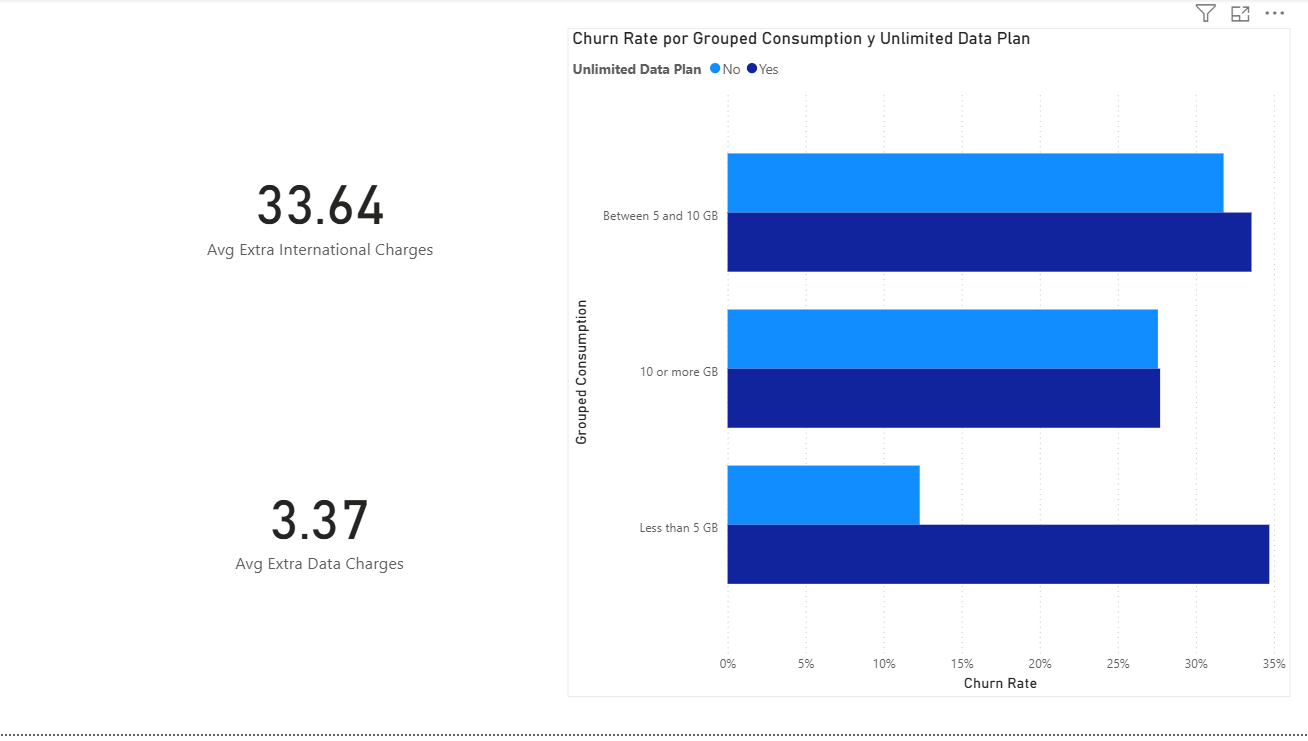

What the dashboard file says about the page in this screenshot:
{"tool":"powerbi","page":{"name":"Extra Charges","canvas":[1280,720],"ordinal":3},"visuals":[{"type":"clusteredBarChart","fields":{"Y":["Databel - Data.Churn Rate"],"Category":["Databel - Data.Grouped Consumption"],"Series":["Databel - Data.Unlimited Data Plan"]},"box":[554.9,29.1,708.2,654],"z":0},{"type":"card","fields":{"Values":["Databel - Data.Avg Extra International Charges"]},"box":[158.5,101.7,309.2,210.1],"z":1000},{"type":"card","fields":{"Values":["Databel - Data.Avg Extra Data Charges"]},"box":[158.5,406.9,307.8,214],"z":2000}]}

Visuals, with their boxes in screenshot pixels (x1, y1, x2, y2), scaled from the page's 1280x720 canvas onto the 1308x741 screenshot:
clusteredBarChart - Databel - Data.Churn Rate x Databel - Data.Grouped Consumption: 567, 30, 1291, 703
card - Databel - Data.Avg Extra International Charges: 162, 105, 478, 321
card - Databel - Data.Avg Extra Data Charges: 162, 419, 477, 639
